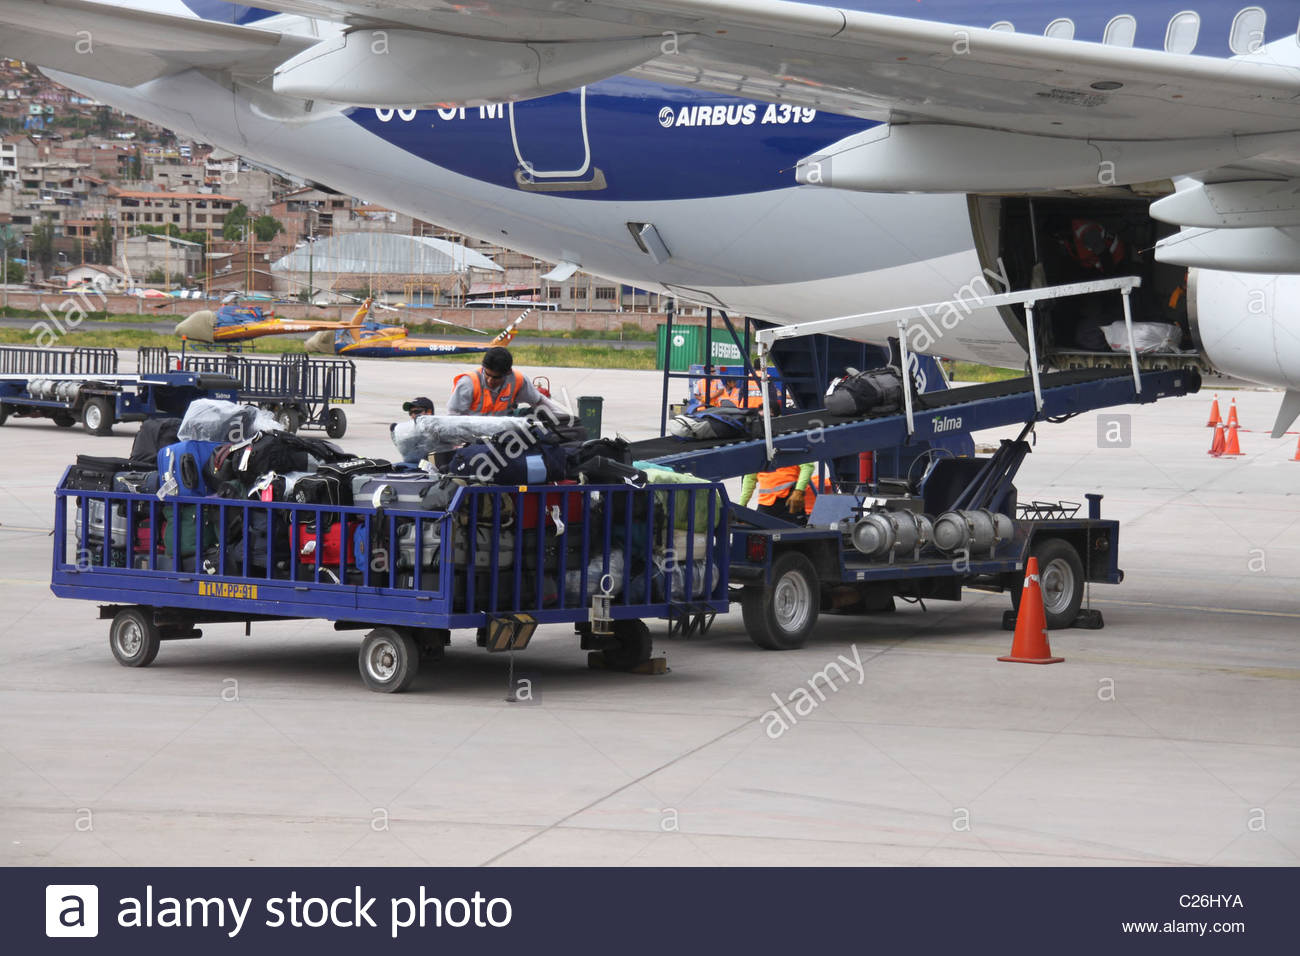baggagetruck: (616, 317, 1170, 642)
